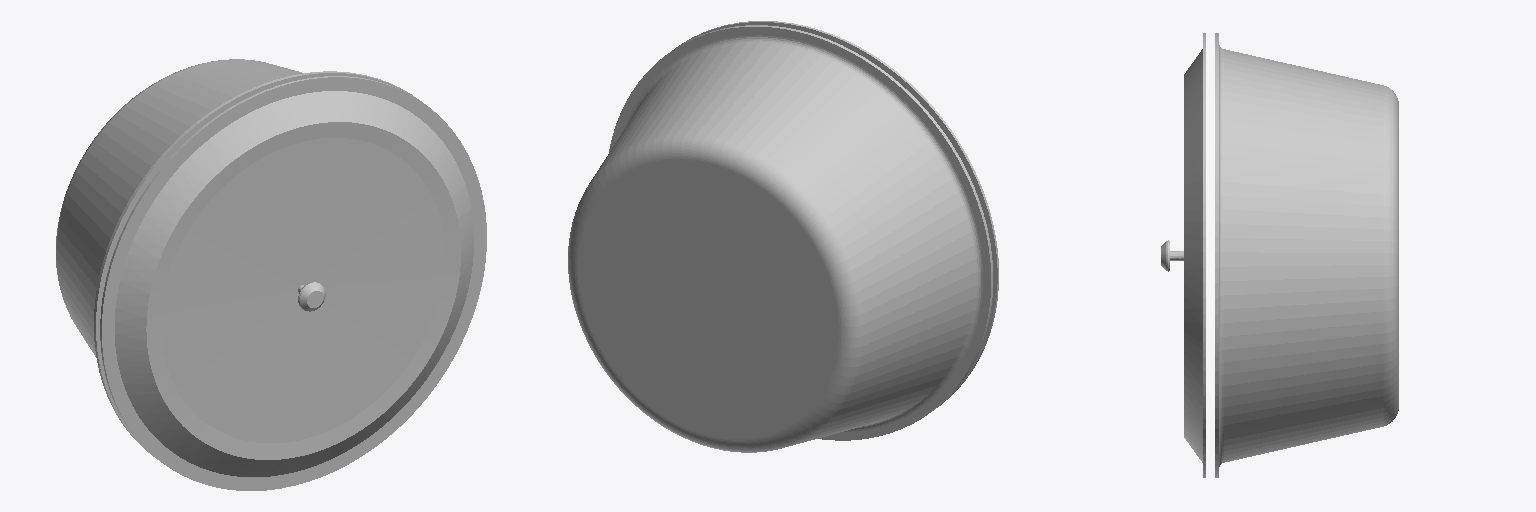
File: 搪瓷碗.obj
The picture shows the model from 3 angles: view 1: azimuth 30°, elevation 25°; view 2: azimuth 150°, elevation 25°; view 3: azimuth 270°, elevation 25°; orthographic projection.
Parts seen in each view (by area): view 1: ____02, ____01; view 2: ____01, ____02; view 3: ____01, ____02.
Boxes of the visible parts, x1=… form: ____02: x1=100, y1=76, x2=486, y2=490; ____01: x1=56, y1=59, x2=421, y2=456; ____01: x1=568, y1=25, x2=992, y2=452; ____02: x1=676, y1=21, x2=998, y2=407; ____01: x1=1215, y1=33, x2=1398, y2=477; ____02: x1=1161, y1=33, x2=1205, y2=477.
Bounding box in the file's own units: 0.021 × 0.021 × 0.0112.